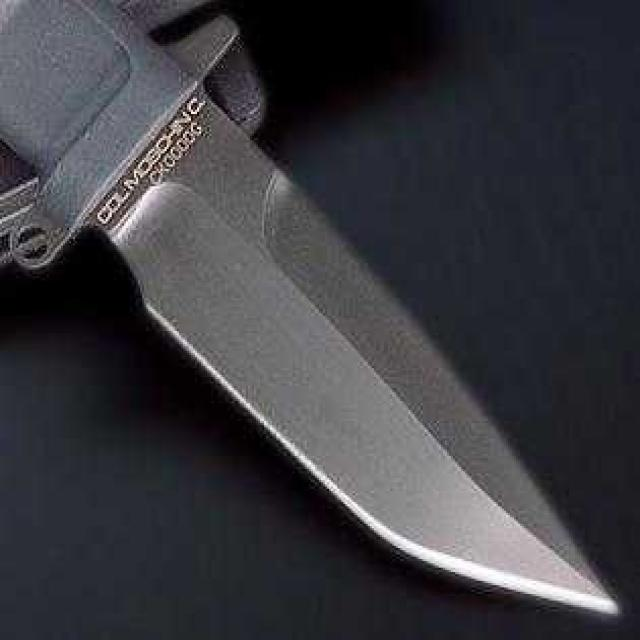Knife: (0, 0, 629, 623)
